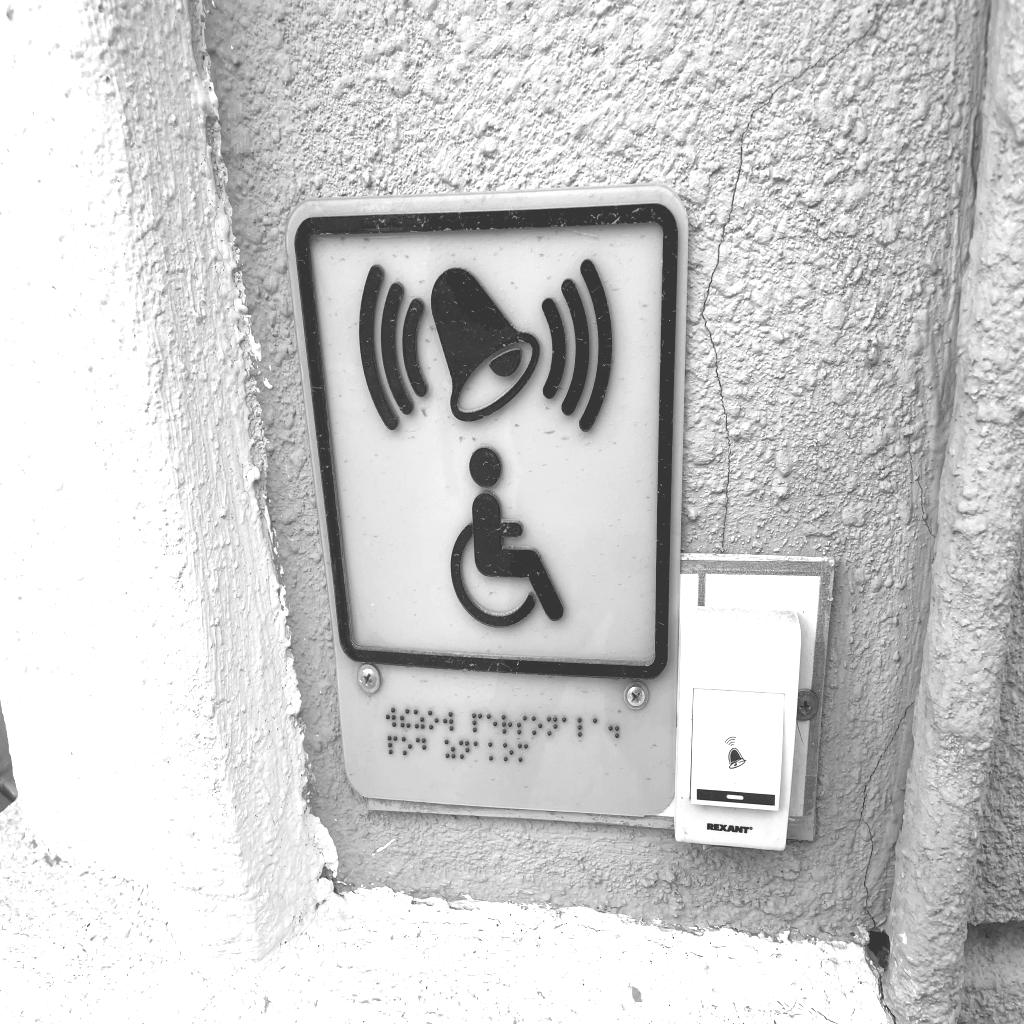_n: (546, 716, 558, 737), (459, 740, 470, 760)
a: (561, 716, 572, 738), (592, 717, 603, 738), (473, 741, 483, 762)
d: (416, 737, 427, 758)
e: (486, 713, 498, 735)
ii: (400, 708, 410, 729)
k: (487, 741, 498, 761)
l: (577, 717, 589, 738)
m: (518, 742, 528, 763)
o: (531, 715, 543, 736), (502, 742, 514, 763), (401, 736, 412, 757), (428, 709, 438, 731)
p: (387, 735, 398, 756), (472, 712, 482, 734)
r: (501, 714, 513, 735)
s: (516, 715, 527, 736)
tochka: (608, 717, 619, 739)
v: (386, 707, 396, 728), (443, 711, 453, 732)
z: (413, 709, 425, 730), (444, 739, 456, 760)
